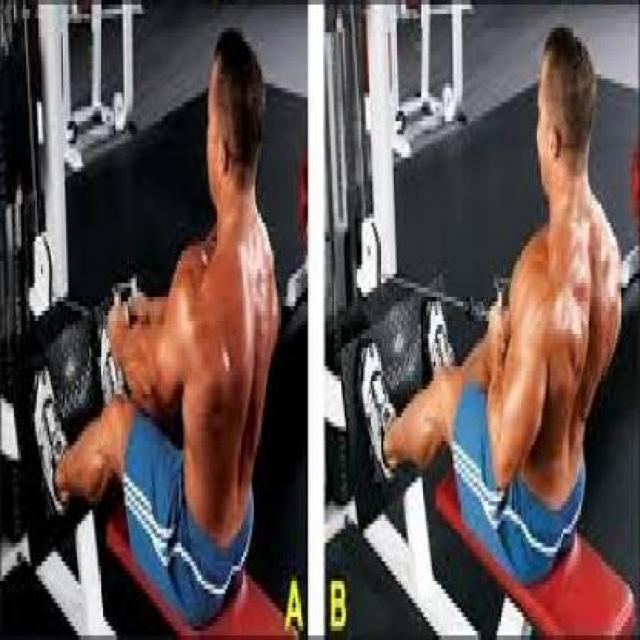Seated Cable Rows: (3, 0, 305, 640)
